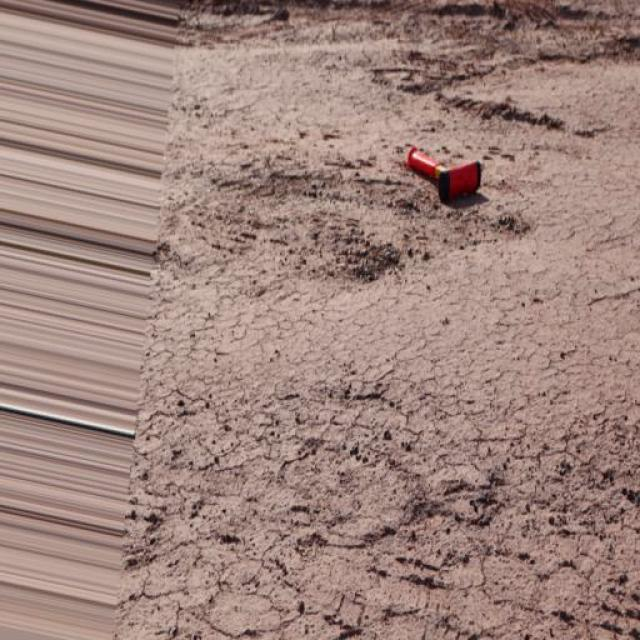mallet: (405, 144, 484, 202)
